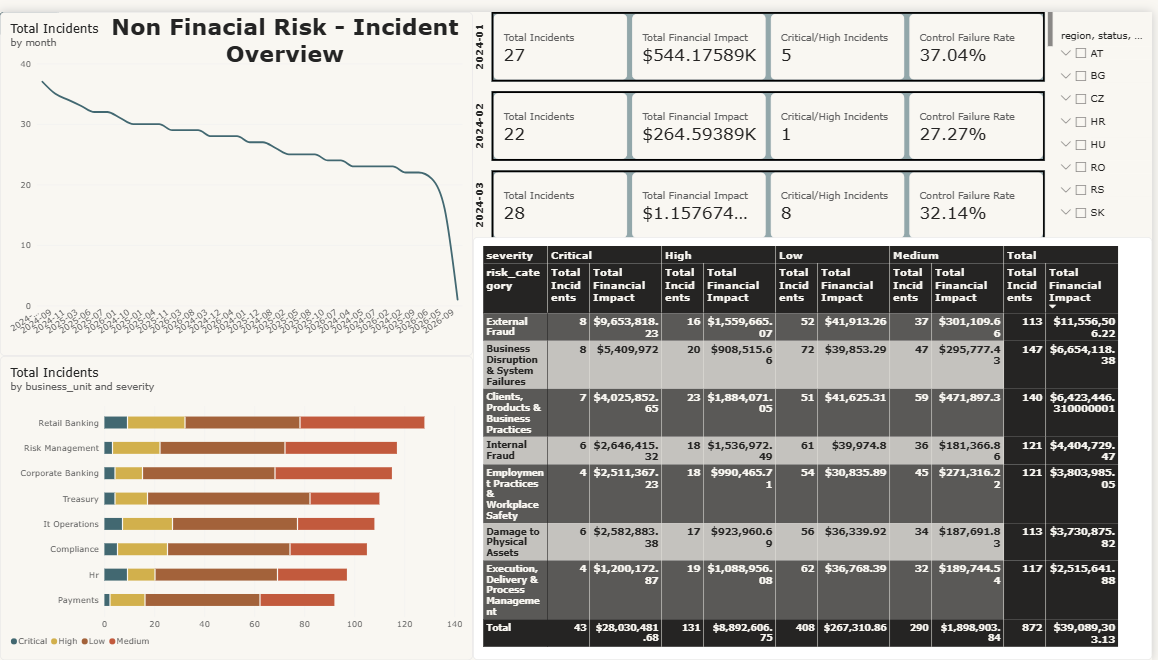

The page's visual inventory and layout, read from the dashboard file:
{"tool":"powerbi","page":{"name":"Page 1","canvas":[1920,1080],"ordinal":0},"visuals":[{"type":"cardVisual","fields":{"Data":["clean_incidents.Total Incidents","clean_incidents.Total Financial Impact","clean_incidents.Critical/High Incidents","clean_incidents.Control Failure Rate"],"Rows":["clean_incidents.month"]},"box":[788.3,0,966.7,388.3],"z":0},{"type":"actionButton","box":[0,0,100,40],"z":1000},{"type":"lineChart","fields":{"Category":["clean_incidents.month"],"Y":["clean_incidents.Total Incidents"]},"box":[0,0,788.3,573.3],"z":2000},{"type":"barChart","fields":{"Category":["clean_incidents.business_unit"],"Series":["clean_incidents.severity"],"Y":["clean_incidents.Total Incidents"]},"box":[0,573.3,788.3,506.7],"z":3000},{"type":"slicer","fields":{"Values":["clean_incidents.region","clean_incidents.status","clean_incidents.month"]},"box":[1760,28.3,160,331.7],"z":4000},{"type":"pivotTable","fields":{"Columns":["clean_incidents.severity"],"Rows":["clean_incidents.risk_category"],"Values":["clean_incidents.Total Incidents","clean_incidents.Total Financial Impact"]},"box":[788.3,375,1131.7,705],"z":5000},{"type":"textbox","box":[161.7,0,626.7,261.7],"z":5001}]}

Visuals, with their boxes in screenshot pixels (x1, y1, x2, y2), scaled from the page's 1920x1080 canvas onto the 1158x660 screenshot:
cardVisual - clean_incidents.Total Incidents x clean_incidents.Total Financial Impact: (left=475, top=0, right=1058, bottom=237)
actionButton: (left=0, top=0, right=60, bottom=24)
lineChart - clean_incidents.month x clean_incidents.Total Incidents: (left=0, top=0, right=475, bottom=350)
barChart - clean_incidents.business_unit x clean_incidents.severity: (left=0, top=350, right=475, bottom=659)
slicer - clean_incidents.region x clean_incidents.status: (left=1062, top=17, right=1157, bottom=220)
pivotTable - clean_incidents.severity x clean_incidents.risk_category: (left=475, top=229, right=1157, bottom=659)
textbox: (left=98, top=0, right=476, bottom=160)
